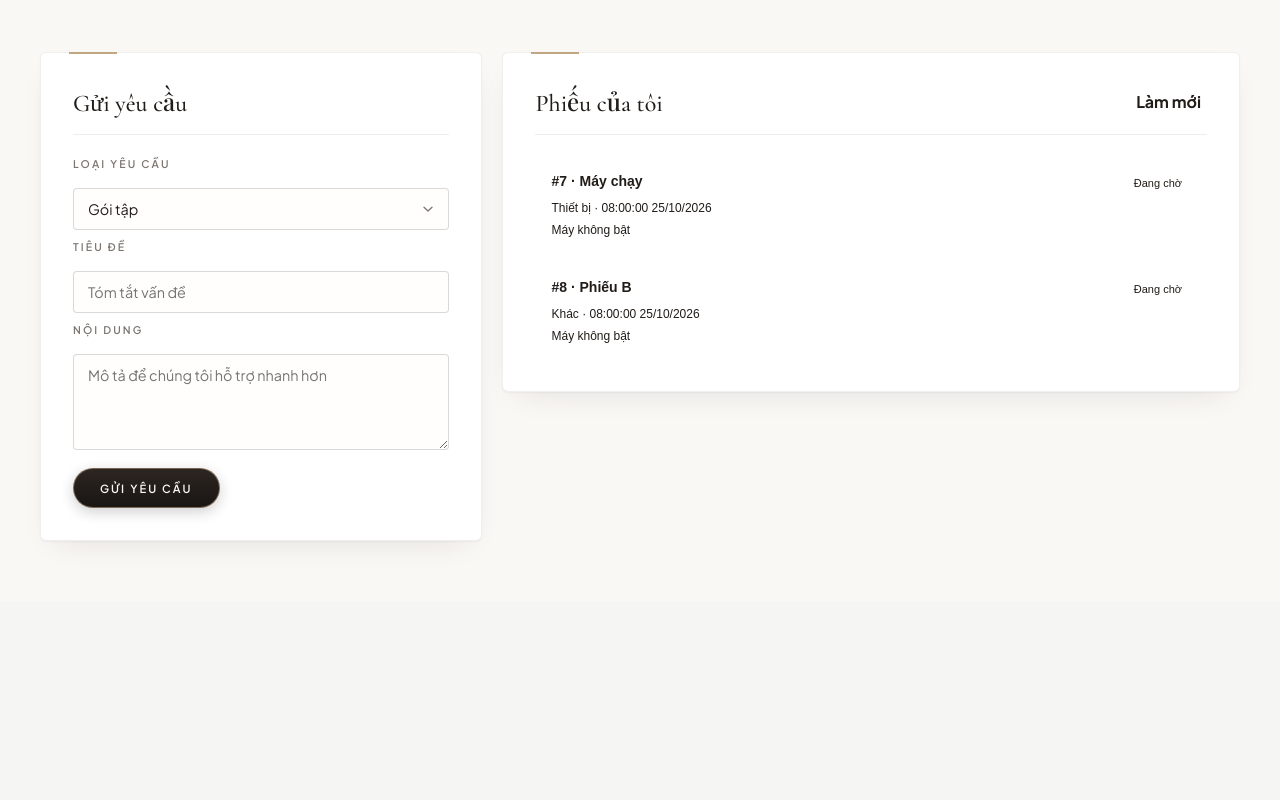
Scenario: cleans up ticket subscription and ignores late invalidation after changing ticket
Click the button with class "member-support-ticket" that starts with "Máy chạy": (611, 181) [536,157,1207,253]
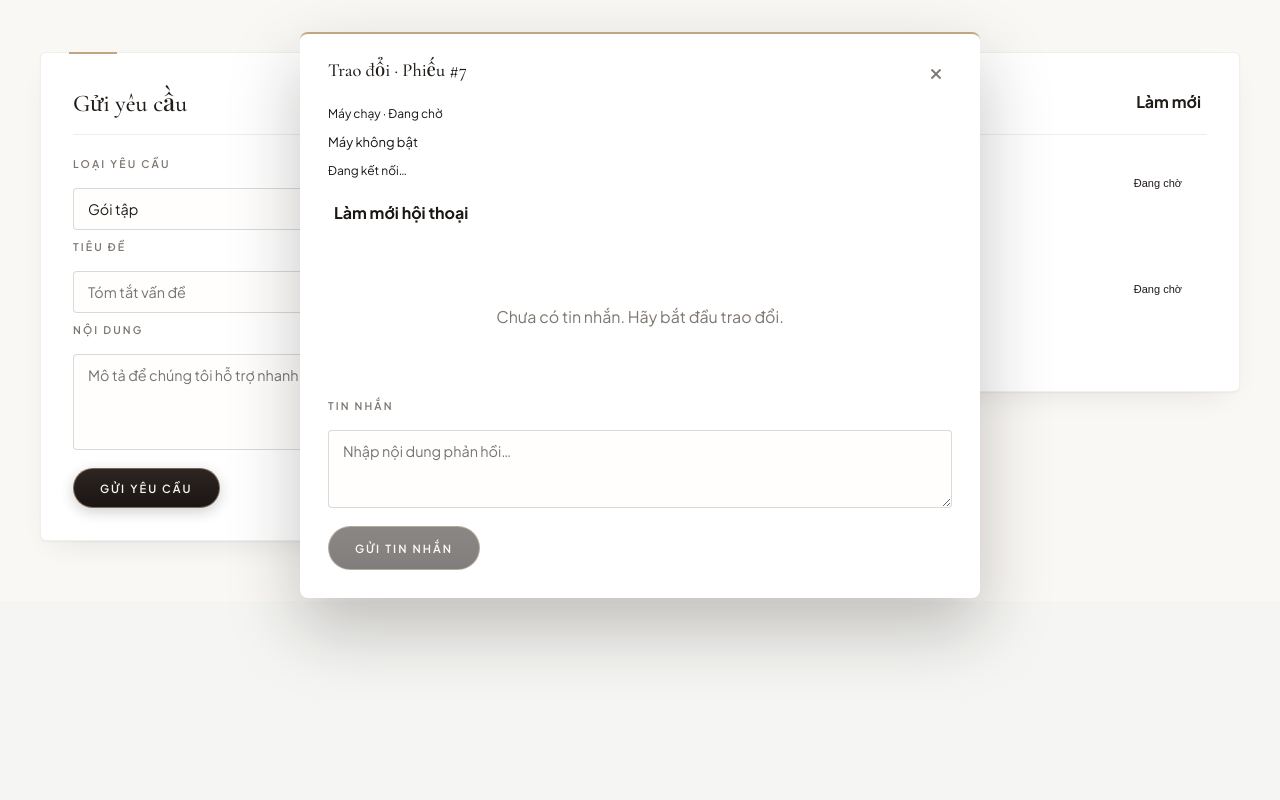
Click the button named "Đóng hộp thoại": (936, 74) [920,58,952,90]
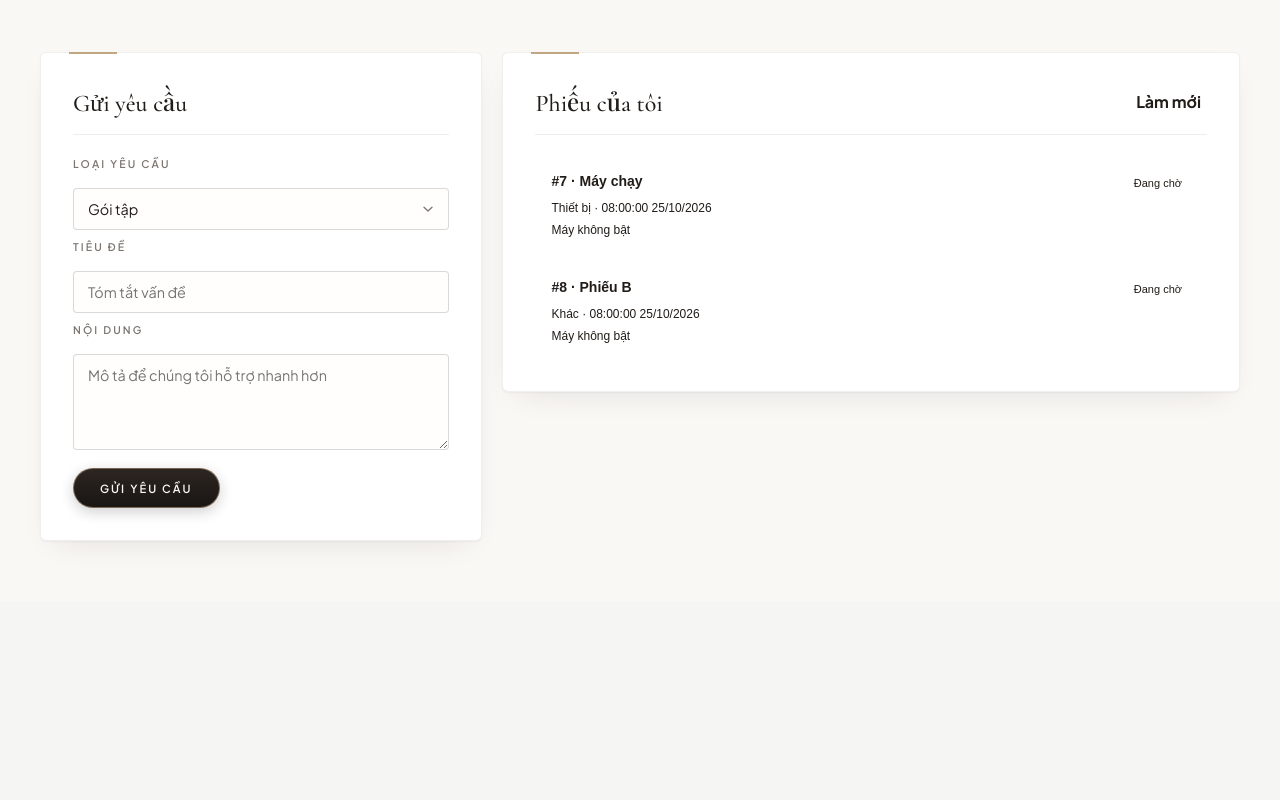
Click the button with class "member-support-ticket" that starts with "Phiếu B": (606, 287) [536,263,1207,359]
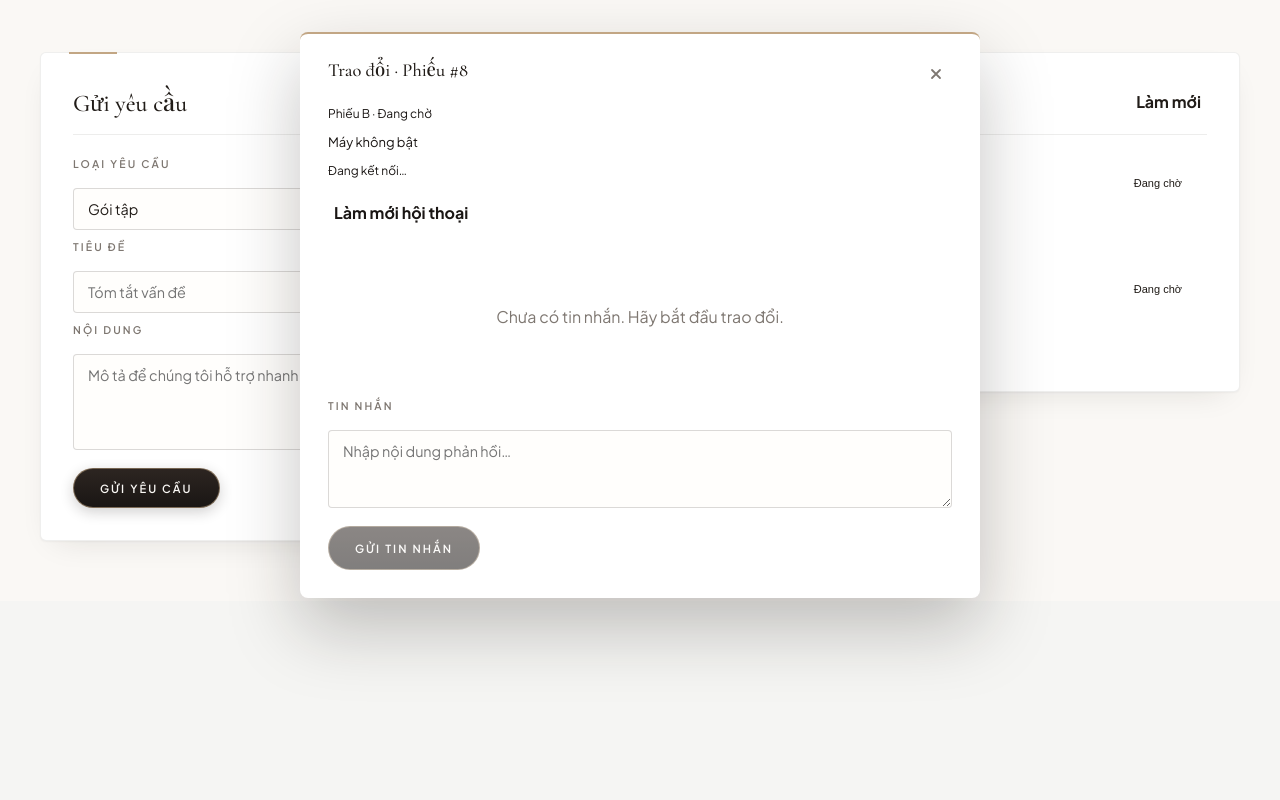
Expected: the dialog shows "Phiếu #8", [328,59,468,81]
